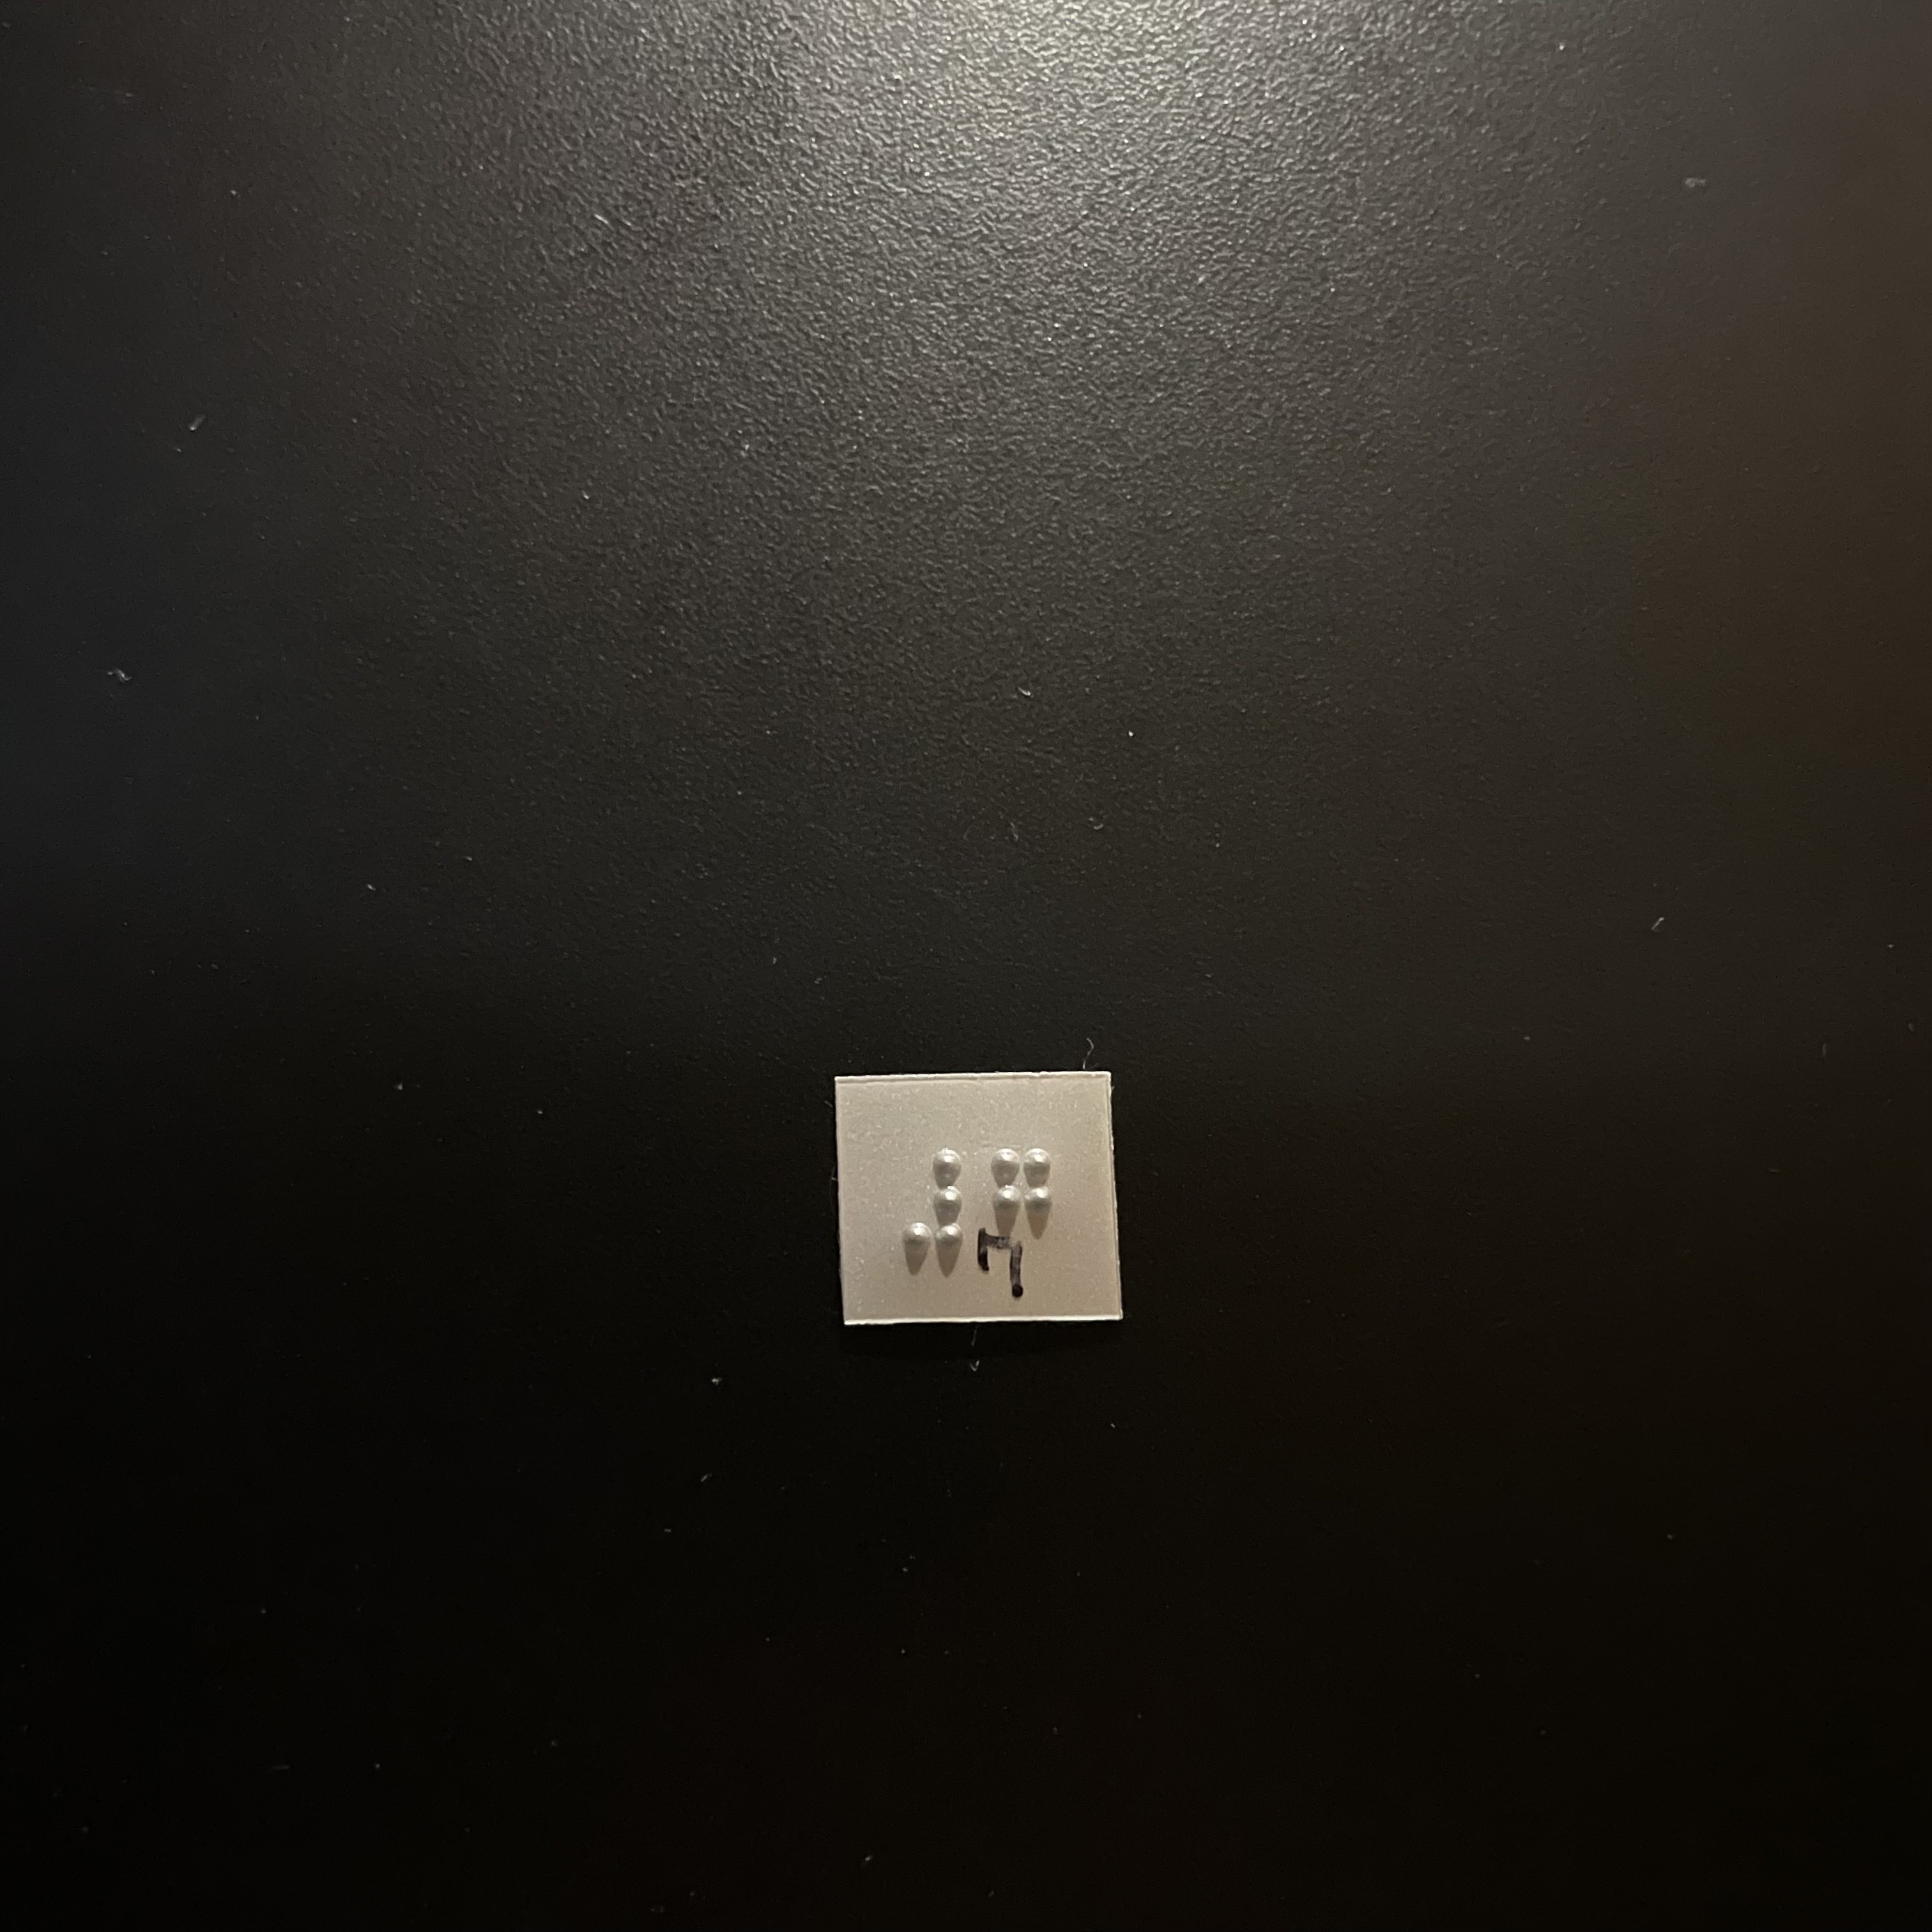#: (897, 1147, 979, 1282)
g: (979, 1147, 1062, 1284)
